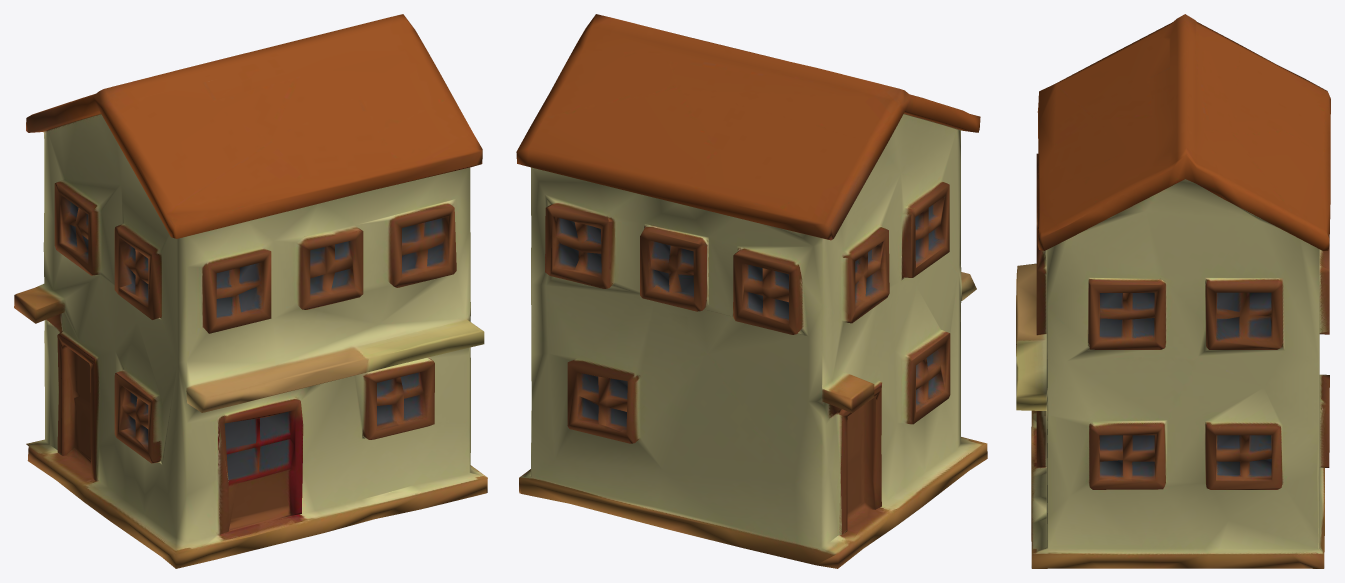
Rendered from bakery2 building 3d model.glb.
The picture shows the model from 3 angles, left to right: view 1: azimuth 30°, elevation 25°; view 2: azimuth 150°, elevation 25°; view 3: azimuth 270°, elevation 25°; orthographic projection. The views are drawn at different scales.
Visible parts, largest first — view 1: tripo_node_f1ae1174-1445-4e36-aeee-4700a24aabb7; view 2: tripo_node_f1ae1174-1445-4e36-aeee-4700a24aabb7; view 3: tripo_node_f1ae1174-1445-4e36-aeee-4700a24aabb7.
Boxes of the visible parts, x1=… form: tripo_node_f1ae1174-1445-4e36-aeee-4700a24aabb7: x1=14, y1=14, x2=487, y2=568; tripo_node_f1ae1174-1445-4e36-aeee-4700a24aabb7: x1=516, y1=14, x2=987, y2=568; tripo_node_f1ae1174-1445-4e36-aeee-4700a24aabb7: x1=1016, y1=14, x2=1330, y2=568.
Size of the model in its own units: 0.7921 by 0.9793 by 0.6786.
Materials: 1 (1 with a texture image).
